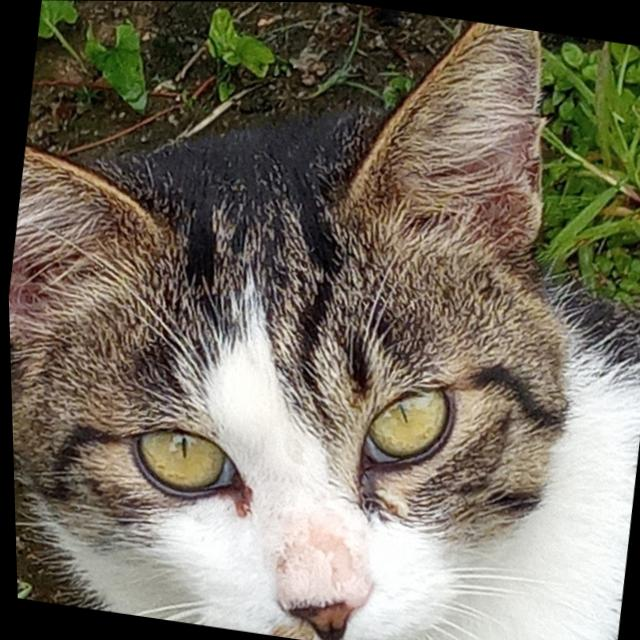animals: (0, 0, 601, 640)
